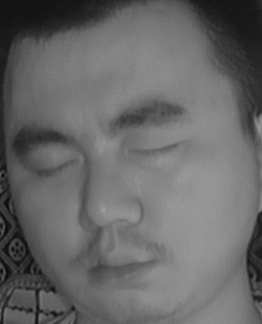blink: (129, 132, 182, 171), (29, 152, 80, 184)
mouth: (74, 239, 165, 291)
